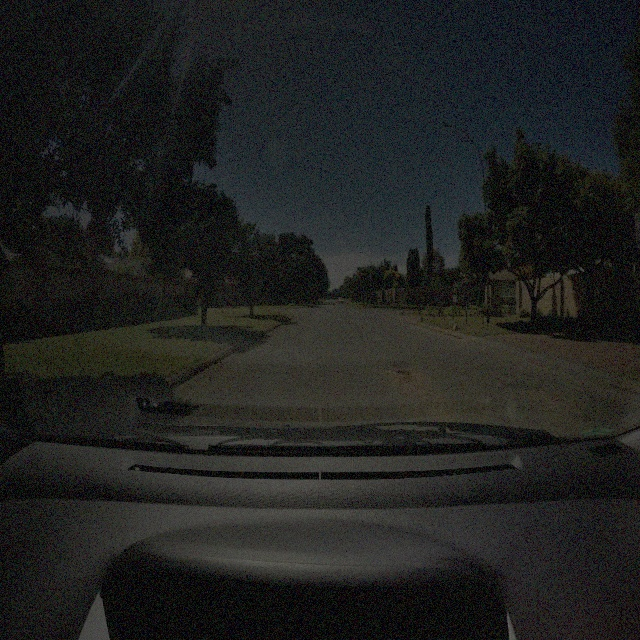pothole: (392, 364, 409, 378), (529, 383, 544, 395)
